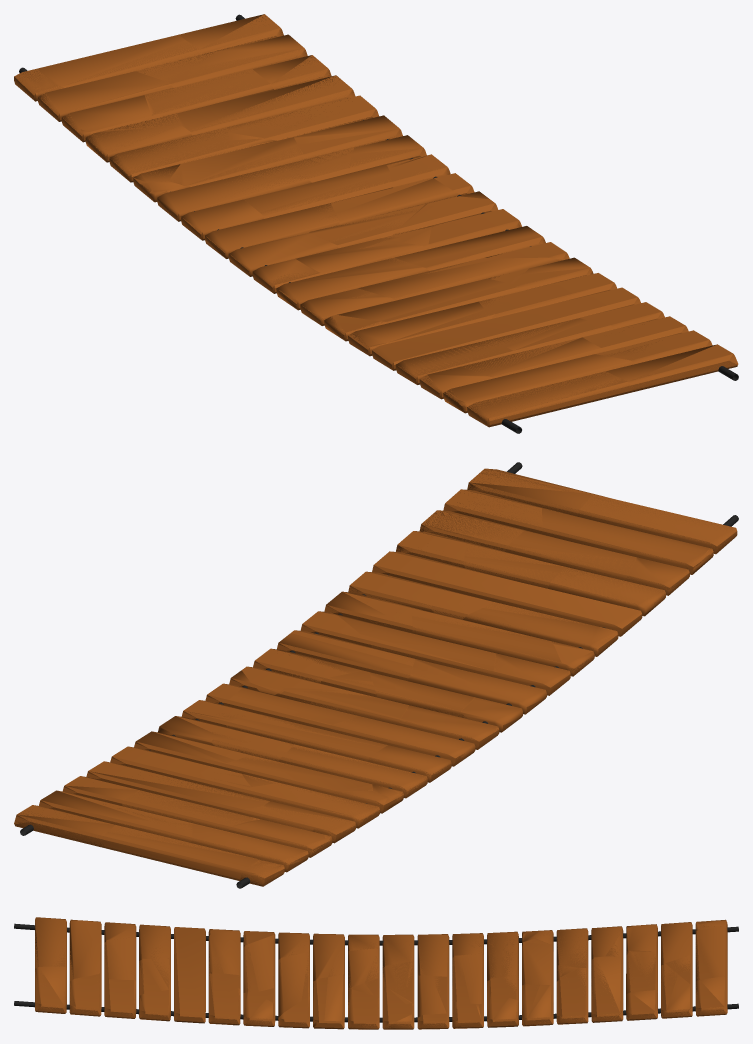
Rendered from Woodenbridge.fbx.
3 views of the same model, one above another, from view 1: azimuth 30°, elevation 25°; view 2: azimuth 150°, elevation 25°; view 3: azimuth 270°, elevation 25° (orthographic). The views are drawn at different scales.
Visible parts, largest first — view 1: Cube.004, Cube.015, Cube.019, Cube.016, Cube.002, Cube_cell.003, Cube.003, Cube.003_cell.002, Cube.006_cell.002, Cube.017, Cube.019_cell.001, Cube.014 (+46 smaller); view 2: Cube.015, Cube.019, Cube.016, Cube.004, Cube, Cube.017, Cube.014, Cube.003, Cube.018, Cube.002, Cube.013_cell, Cube.018_cell.003 (+44 smaller); view 3: Cube.015, Cube.004, Cube.009, Cube.014, Cube.006, Cube.018_cell.003, Cube.013, Cube.016, Cube.012_cell.001, Cube.019_cell.001, Cube.013_cell, Cube.010 (+52 smaller).
Part boxes in pixels (x1,y1,x2,y2): Cube.004: [109, 95, 378, 182]; Cube.015: [372, 287, 640, 370]; Cube.019: [467, 344, 738, 427]; Cube.016: [395, 302, 664, 384]; Cube.002: [61, 55, 331, 142]; Cube_cell.003: [36, 35, 202, 87]; Cube.003: [86, 75, 354, 162]; Cube.003_cell.002: [176, 75, 355, 135]; Cube.006_cell.002: [157, 165, 311, 216]; Cube.017: [419, 316, 688, 399]; Cube.019_cell.001: [467, 371, 630, 426]; Cube.014: [348, 273, 617, 356]; Cube.015: [372, 551, 642, 636]; Cube.019: [467, 468, 737, 553]; Cube.016: [396, 531, 665, 615]; Cube.004: [110, 746, 379, 828]; Cube: [14, 805, 284, 886]; Cube.017: [420, 510, 689, 595]; Cube.014: [348, 571, 618, 656]; Cube.003: [86, 761, 355, 842]; Cube.018: [443, 489, 713, 574]; Cube.002: [62, 776, 332, 857]; Cube.013_cell: [411, 610, 571, 676]; Cube.018_cell.003: [542, 508, 709, 568]; Cube.015: [174, 927, 205, 1023]; Cube.004: [556, 935, 588, 1023]; Cube.009: [382, 935, 414, 1028]; Cube.014: [208, 932, 240, 1025]; Cube.006: [487, 933, 518, 1027]; Cube.018_cell.003: [70, 920, 100, 978]; Cube.013: [243, 931, 275, 1026]; Cube.016: [139, 929, 170, 1021]; Cube.012_cell.001: [278, 952, 309, 1017]; Cube.019_cell.001: [35, 917, 66, 967]; Cube.013_cell: [243, 934, 275, 992]; Cube.010: [348, 935, 379, 1029].
Bounding box in the file's own units: 400 × 53.06 × 1373.
